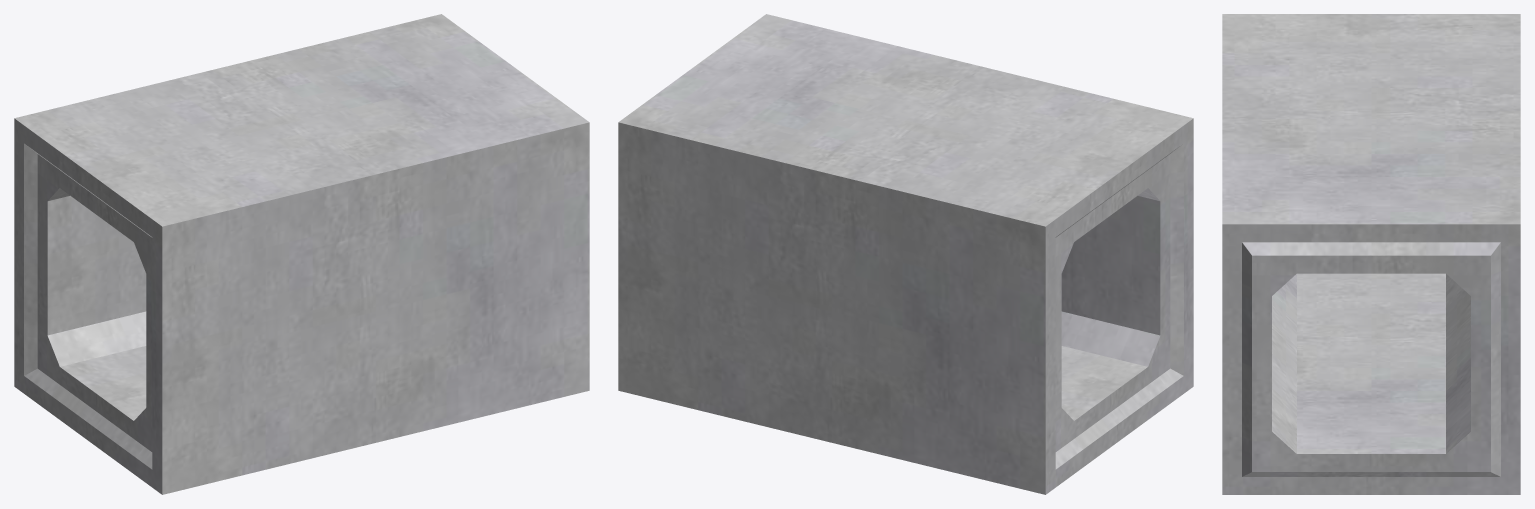
3 views of the same model, side by side, from view 1: azimuth 30°, elevation 25°; view 2: azimuth 150°, elevation 25°; view 3: azimuth 270°, elevation 25° (orthographic).
Parts seen in each view (by area): view 1: root; view 2: root; view 3: root.
Part boxes in pixels (left/top/right/bottom): root: left=14, top=14, right=589, bottom=494; root: left=618, top=14, right=1193, bottom=494; root: left=1222, top=14, right=1520, bottom=494.
Bounding box in the file's own units: 1.02 × 0.6 × 0.6.
1 material, 1 textured.
